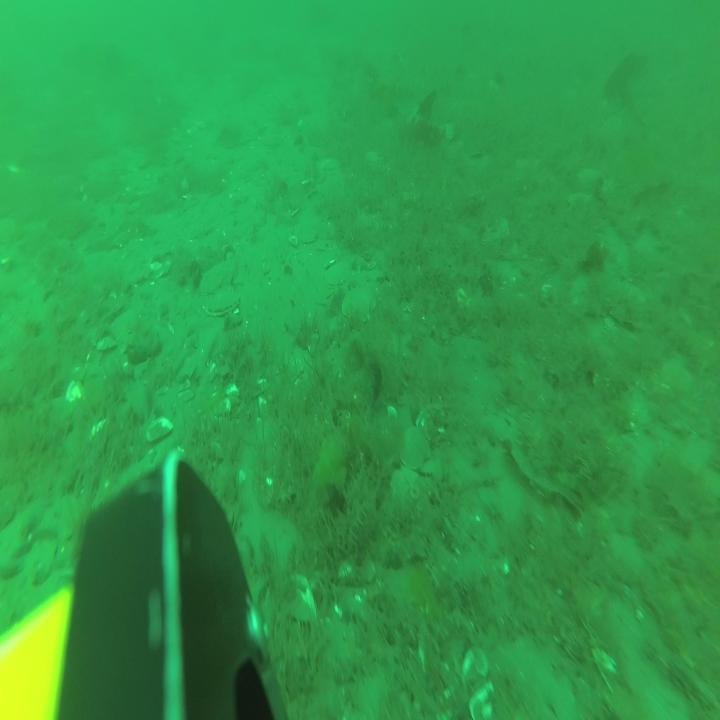scallop: (342, 279, 378, 323), (198, 256, 234, 296), (401, 426, 430, 469), (391, 464, 418, 502), (206, 286, 241, 315), (324, 260, 350, 287), (296, 221, 320, 244)
